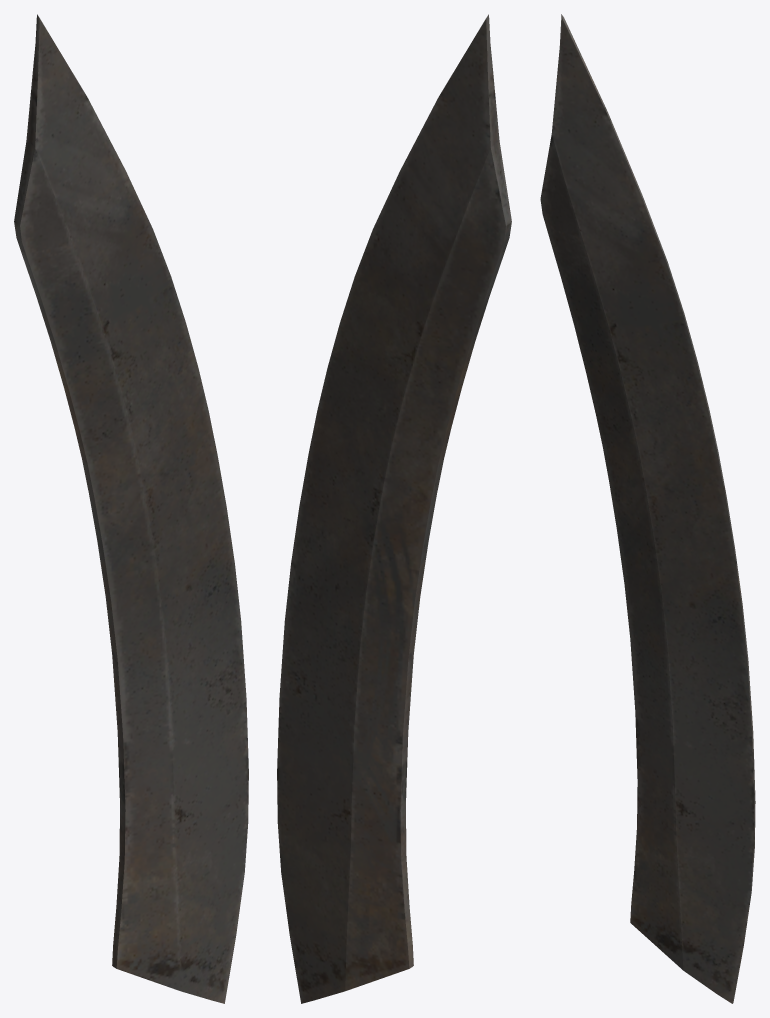
The model's file is wm_mordor_set1_sword_a02_blade.fbx.
3 views of the same model, side by side, from view 1: azimuth 30°, elevation 25°; view 2: azimuth 150°, elevation 25°; view 3: azimuth 330°, elevation 25° (orthographic). The views are drawn at different scales.
Visible parts, largest first — view 1: wm_mordor_set1_sword_a02_blade; view 2: wm_mordor_set1_sword_a02_blade; view 3: wm_mordor_set1_sword_a02_blade.
Boxes of the visible parts, bbox=[...] form: wm_mordor_set1_sword_a02_blade: bbox=[14, 14, 248, 1003]; wm_mordor_set1_sword_a02_blade: bbox=[277, 14, 511, 1003]; wm_mordor_set1_sword_a02_blade: bbox=[540, 14, 755, 1003].
Size of the model in its own units: 0.1337 by 0.0133 by 0.5706.
Materials: 1 (1 with a texture image).
